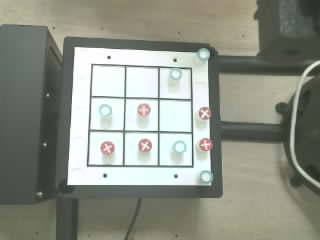blue circle: (173, 140, 186, 152), (197, 48, 210, 60), (200, 170, 212, 183), (99, 104, 111, 116), (170, 68, 181, 79)
board: (67, 46, 213, 186)
cells: (89, 132, 122, 164), (125, 133, 157, 165), (160, 133, 192, 165), (90, 98, 123, 129), (92, 65, 124, 96), (159, 100, 191, 131), (125, 99, 157, 130), (126, 67, 157, 97), (160, 68, 190, 98)
grid: (87, 64, 193, 167)
red cross: (100, 141, 115, 155), (199, 138, 213, 152), (199, 107, 212, 120), (137, 104, 150, 116), (139, 139, 151, 151)
